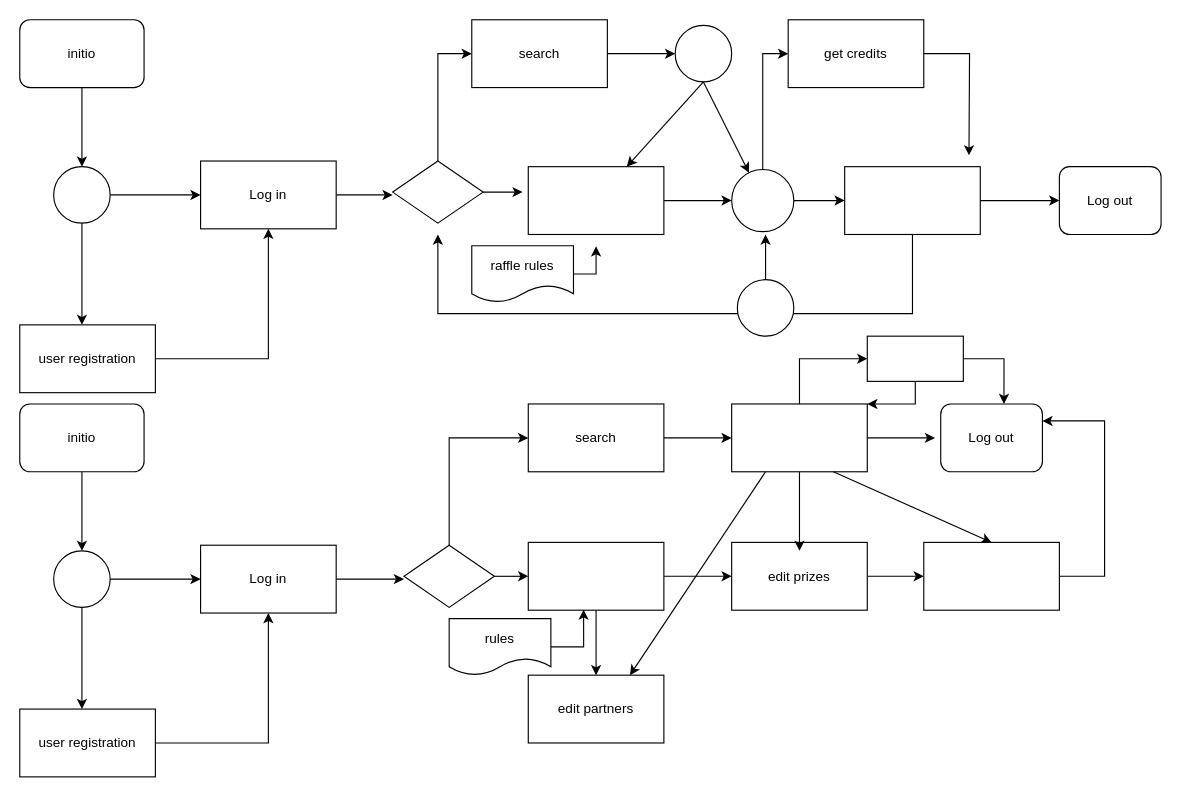
Some shapes in this 1181 by 797 pixel diagram are drawn without their labels. The shapes that lost their labels are listed below. From the top down, each one's centre as x and y in pixels, then its label:
the point at 595,200: Join the raffle
the point at 912,200: get tickets
the point at 914,358: data
the point at 799,437: manage
the point at 595,575: edit contest
the point at 991,575: edit drawings
